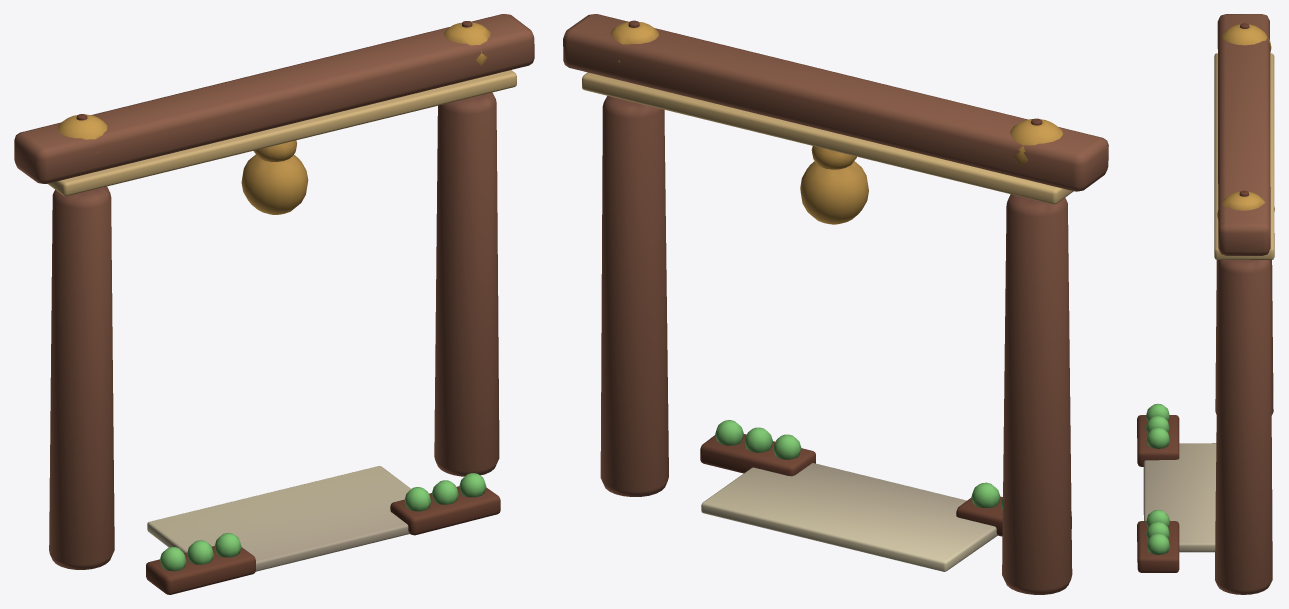
3 renders of one model, left to right at view 1: azimuth 30°, elevation 25°; view 2: azimuth 150°, elevation 25°; view 3: azimuth 270°, elevation 25°, orthographic. The views are drawn at different scales.
Parts seen in each view (by area): view 1: gate_cb21d45b; view 2: gate_cb21d45b; view 3: gate_cb21d45b.
Part boxes in pixels (box(x1,y1,x2,y2)): gate_cb21d45b: box(14, 14, 534, 594); gate_cb21d45b: box(563, 14, 1108, 594); gate_cb21d45b: box(1137, 14, 1274, 594).
Bounding box in the file's own units: 5.1 × 4.35 × 1.38.
